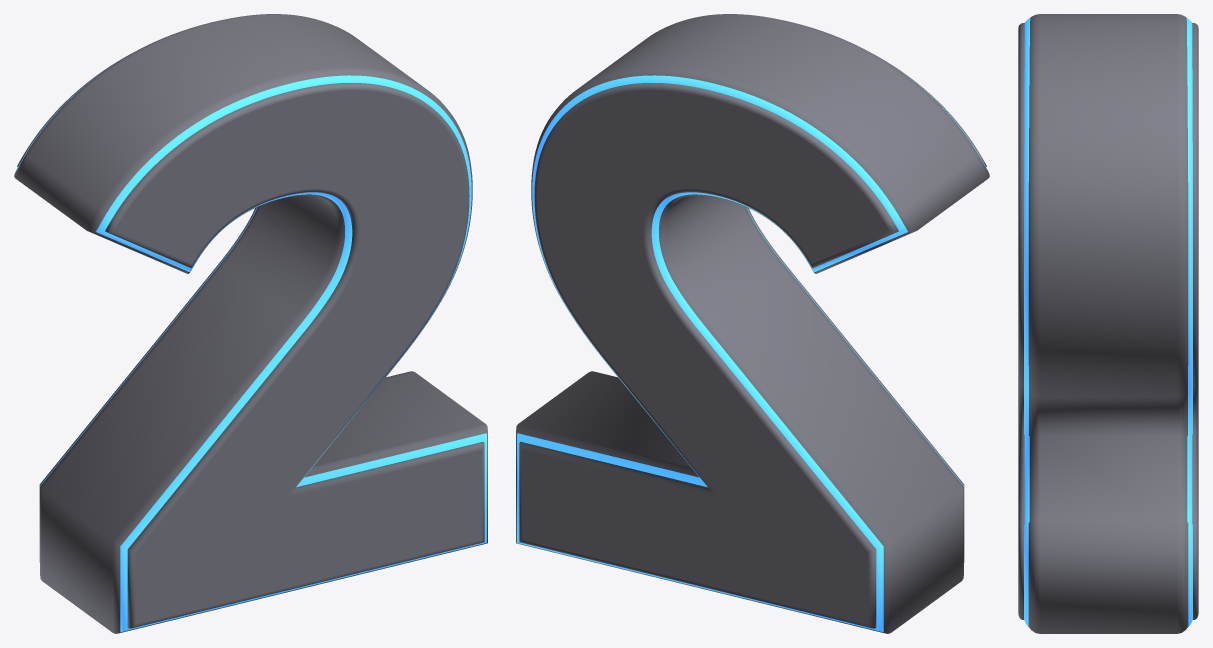
Rendered from two.glb.
The picture shows the model from 3 angles, left to right: view 1: azimuth 30°, elevation 25°; view 2: azimuth 150°, elevation 25°; view 3: azimuth 270°, elevation 25°; orthographic projection. The views are drawn at different scales.
Parts seen in each view (by area): view 1: N_2_smaller_2, N_2_side_1, N_2_border_0; view 2: N_2_smaller_2, N_2_side_1, N_2_border_0; view 3: N_2_side_1, N_2_smaller_2, N_2_border_0.
Part boxes in pixels (x1=…): N_2_smaller_2: x1=17, y1=54, x2=484, y2=628; N_2_side_1: x1=14, y1=14, x2=487, y2=633; N_2_border_0: x1=15, y1=69, x2=486, y2=632; N_2_smaller_2: x1=519, y1=54, x2=986, y2=628; N_2_side_1: x1=516, y1=14, x2=989, y2=633; N_2_border_0: x1=517, y1=69, x2=988, y2=632; N_2_side_1: x1=1028, y1=14, x2=1188, y2=633; N_2_smaller_2: x1=1018, y1=23, x2=1198, y2=619; N_2_border_0: x1=1024, y1=18, x2=1192, y2=626.
Bounding box in the file's own units: 0.4543 × 0.5606 × 0.184.
